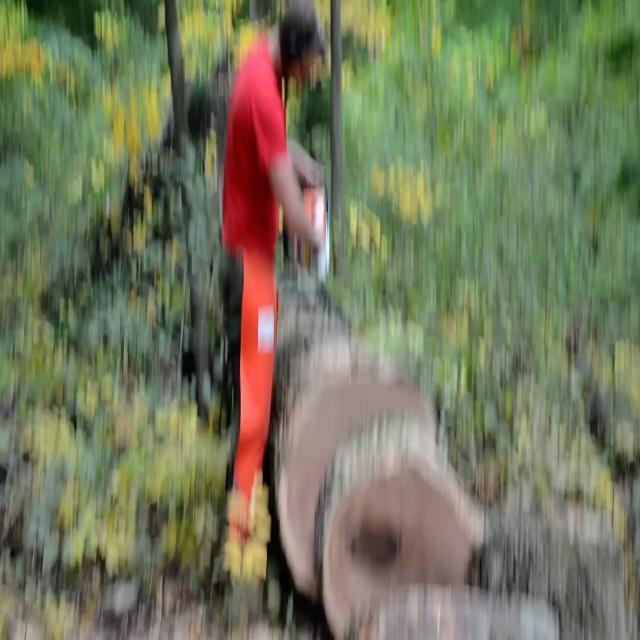Chainsaw: (285, 142, 363, 317)
